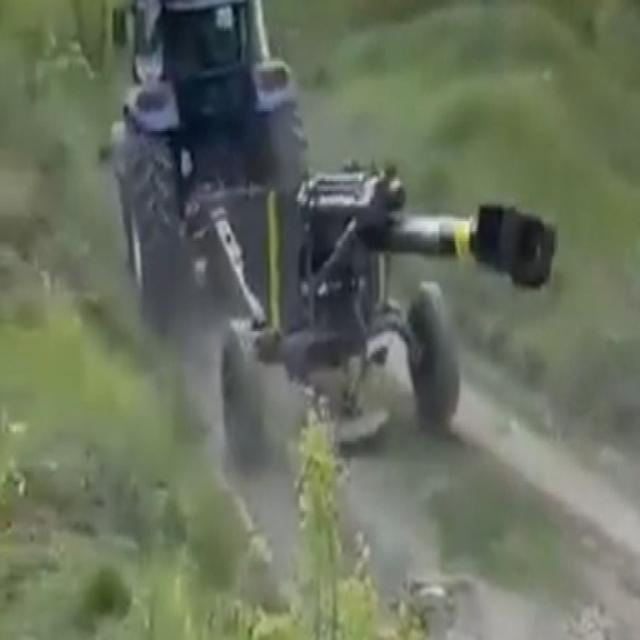ART: (218, 160, 552, 456)
